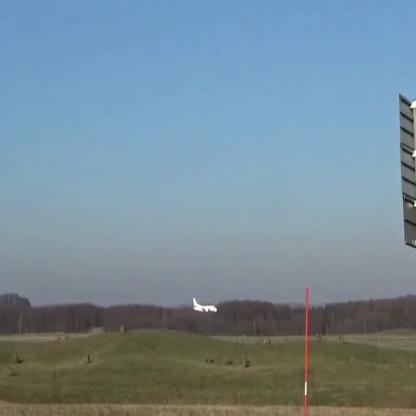CIV_Plane: (192, 297, 216, 312)
